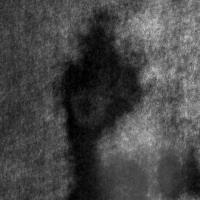patches: (56, 16, 144, 198), (90, 116, 186, 200), (129, 140, 195, 200), (152, 146, 190, 198)
